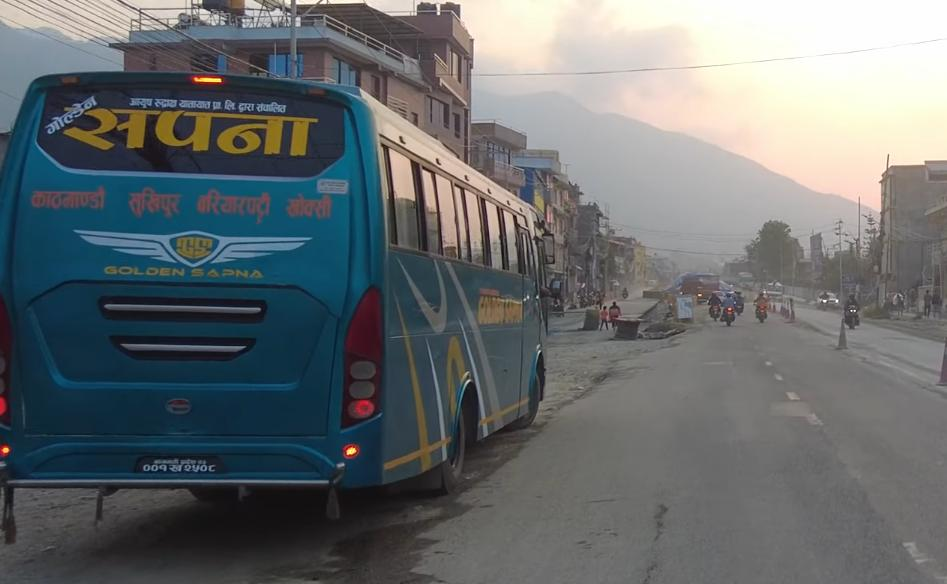bus: (7, 64, 550, 493)
